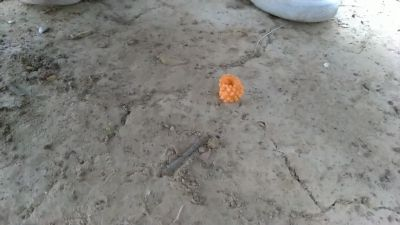eggs: (220, 71, 245, 111)
